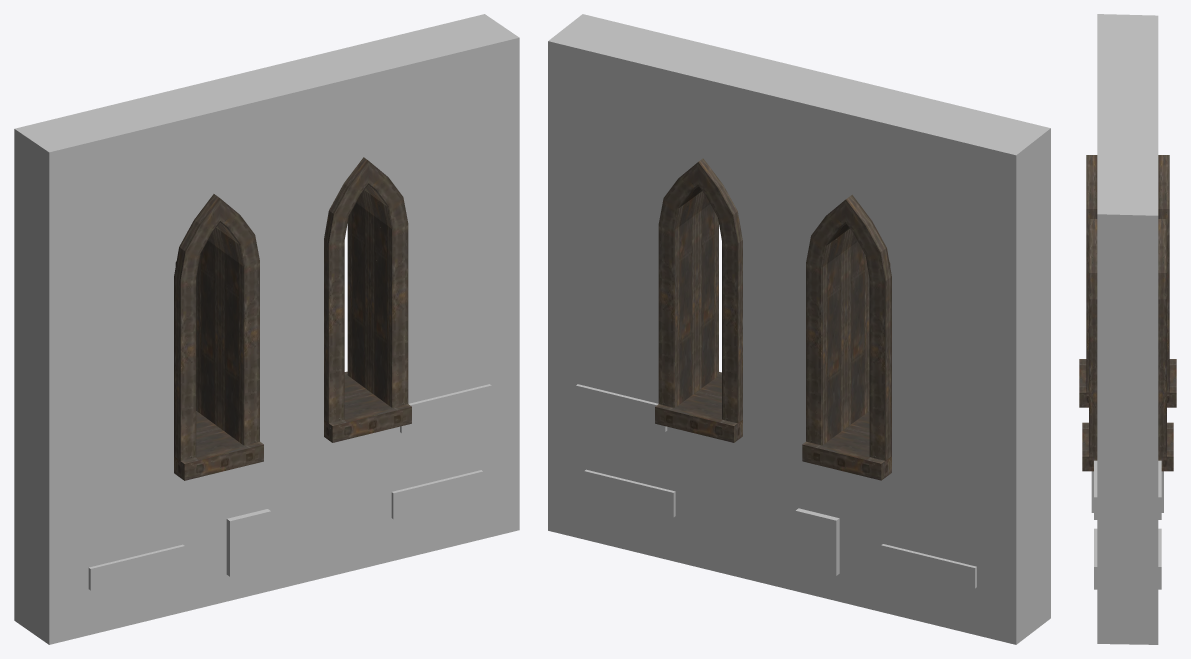
3 renders of one model, left to right at view 1: azimuth 30°, elevation 25°; view 2: azimuth 150°, elevation 25°; view 3: azimuth 270°, elevation 25°, orthographic. The views are drawn at different scales.
Parts seen in each view (by area): view 1: SM_BB_T3_Extended_Wall_Windowframe_Large_04_LOD0; view 2: SM_BB_T3_Extended_Wall_Windowframe_Large_04_LOD0; view 3: SM_BB_T3_Extended_Wall_Windowframe_Large_04_LOD0.
Boxes of the visible parts, bbox=[...] form: SM_BB_T3_Extended_Wall_Windowframe_Large_04_LOD0: bbox=[14, 14, 519, 644]; SM_BB_T3_Extended_Wall_Windowframe_Large_04_LOD0: bbox=[548, 14, 1050, 644]; SM_BB_T3_Extended_Wall_Windowframe_Large_04_LOD0: bbox=[1079, 14, 1176, 644].
Size of the model in its own units: 3 by 3.01 by 0.6166.
